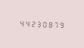eight: (47, 20, 52, 28)
four: (17, 19, 22, 27), (23, 19, 28, 27)
nine: (59, 20, 64, 28)
seven: (53, 20, 58, 28)
three: (35, 19, 40, 27)
two: (29, 19, 34, 27)
zero: (41, 19, 46, 28)
